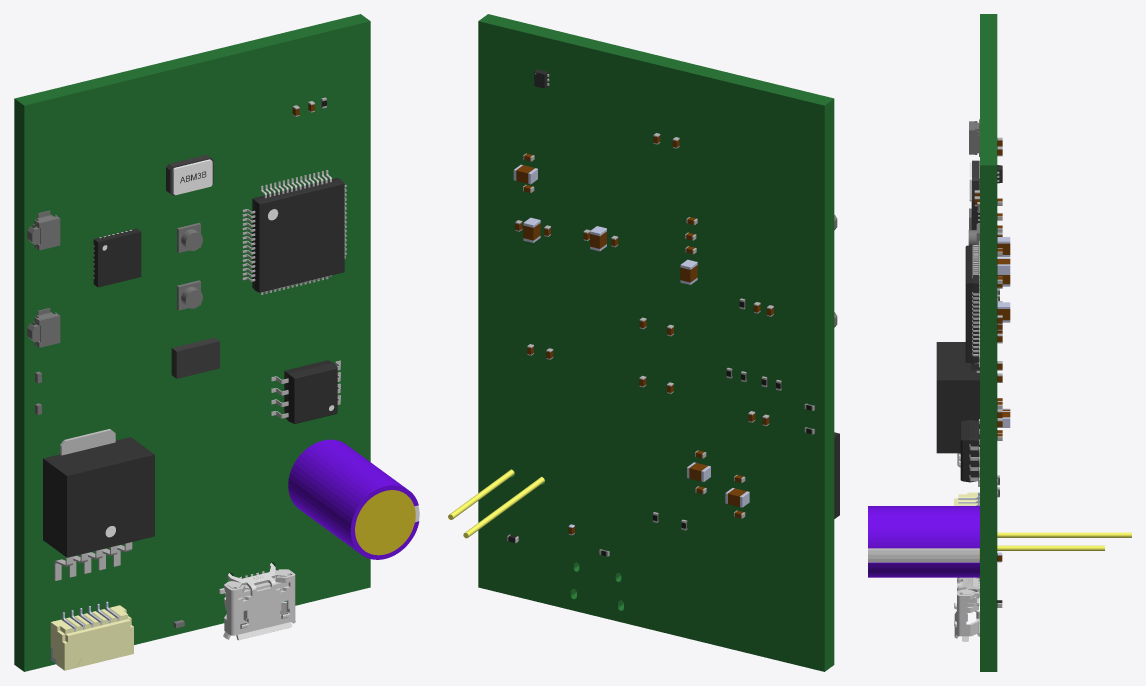
Rendered from iot-sensor-pcb.glb.
3 renders of one model, left to right at view 1: azimuth 30°, elevation 25°; view 2: azimuth 150°, elevation 25°; view 3: azimuth 270°, elevation 25°, orthographic. The views are drawn at different scales.
Visible parts, largest first — view 1: PCB, 44, 69, 13, 83, 51; view 2: PCB; view 3: PCB, 44, 69, 13.
Boxes of the visible parts, left/top/right/bottom form: PCB: left=14, top=14, right=419, bottom=671; 44: left=43, top=437, right=154, bottom=557; 69: left=252, top=178, right=344, bottom=292; 13: left=284, top=360, right=337, bottom=423; 83: left=93, top=228, right=141, bottom=287; 51: left=60, top=429, right=115, bottom=455; PCB: left=448, top=14, right=837, bottom=671; PCB: left=868, top=14, right=1131, bottom=671; 44: left=936, top=342, right=979, bottom=453; 69: left=965, top=245, right=979, bottom=363; 13: left=960, top=420, right=979, bottom=482.
Bounding box in the file's own units: 0.04 × 0.0634 × 0.0295.
